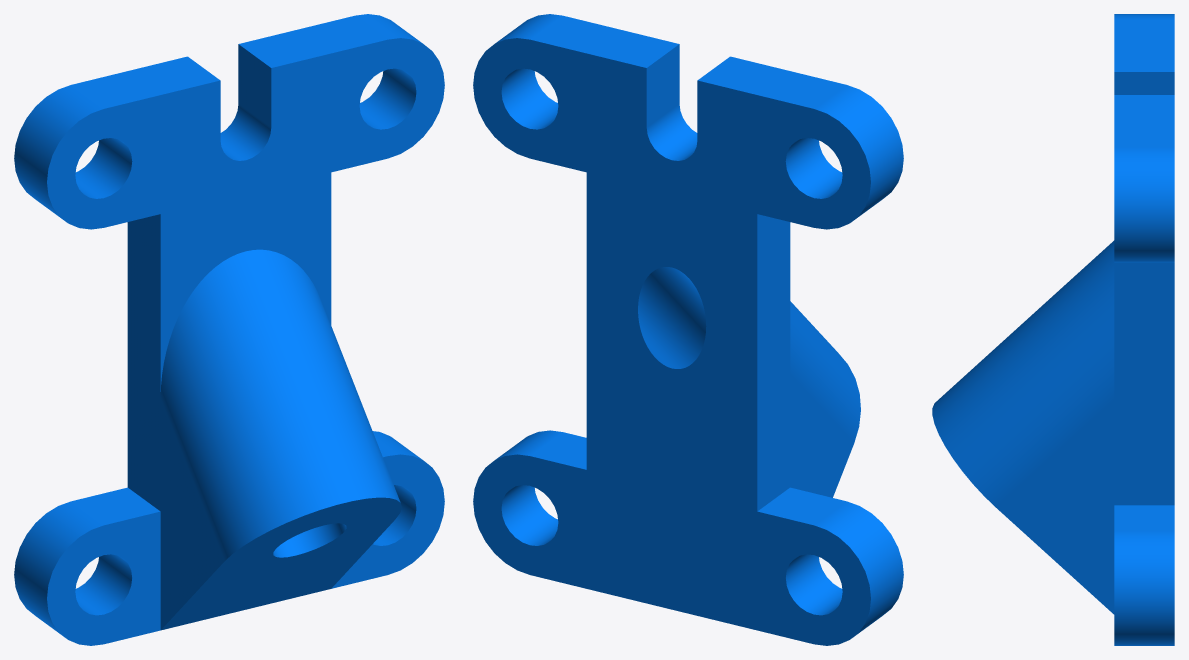
The model's file is Practice25_1.glb.
The picture shows the model from 3 angles, left to right: view 1: azimuth 30°, elevation 25°; view 2: azimuth 150°, elevation 25°; view 3: azimuth 270°, elevation 25°; orthographic projection. The views are drawn at different scales.
Visible parts, largest first — view 1: Default - Part; view 2: Default - Part; view 3: Default - Part.
Part boxes in pixels (x1,y1,x2,y2): Default - Part: (14, 14, 444, 645); Default - Part: (473, 14, 903, 645); Default - Part: (932, 14, 1174, 645).
Bounding box in the file's own units: 0.0889 × 0.1143 × 0.0509.
